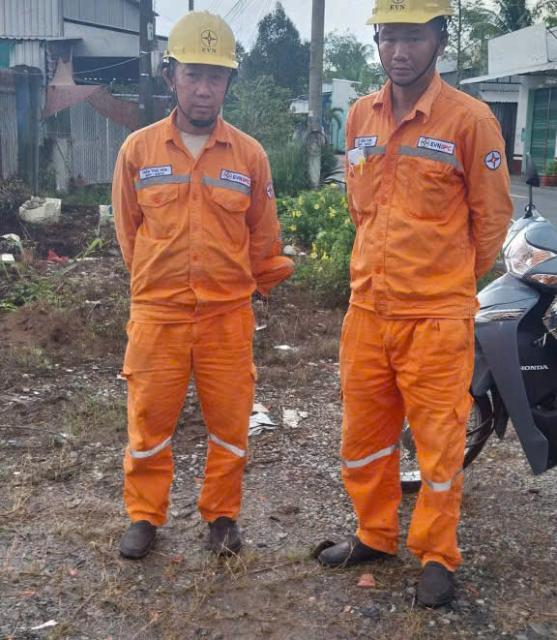helmet: (160, 2, 252, 76), (359, 0, 477, 33)
shoes: (96, 496, 187, 566), (405, 540, 481, 618), (311, 522, 405, 574), (186, 499, 251, 568)
